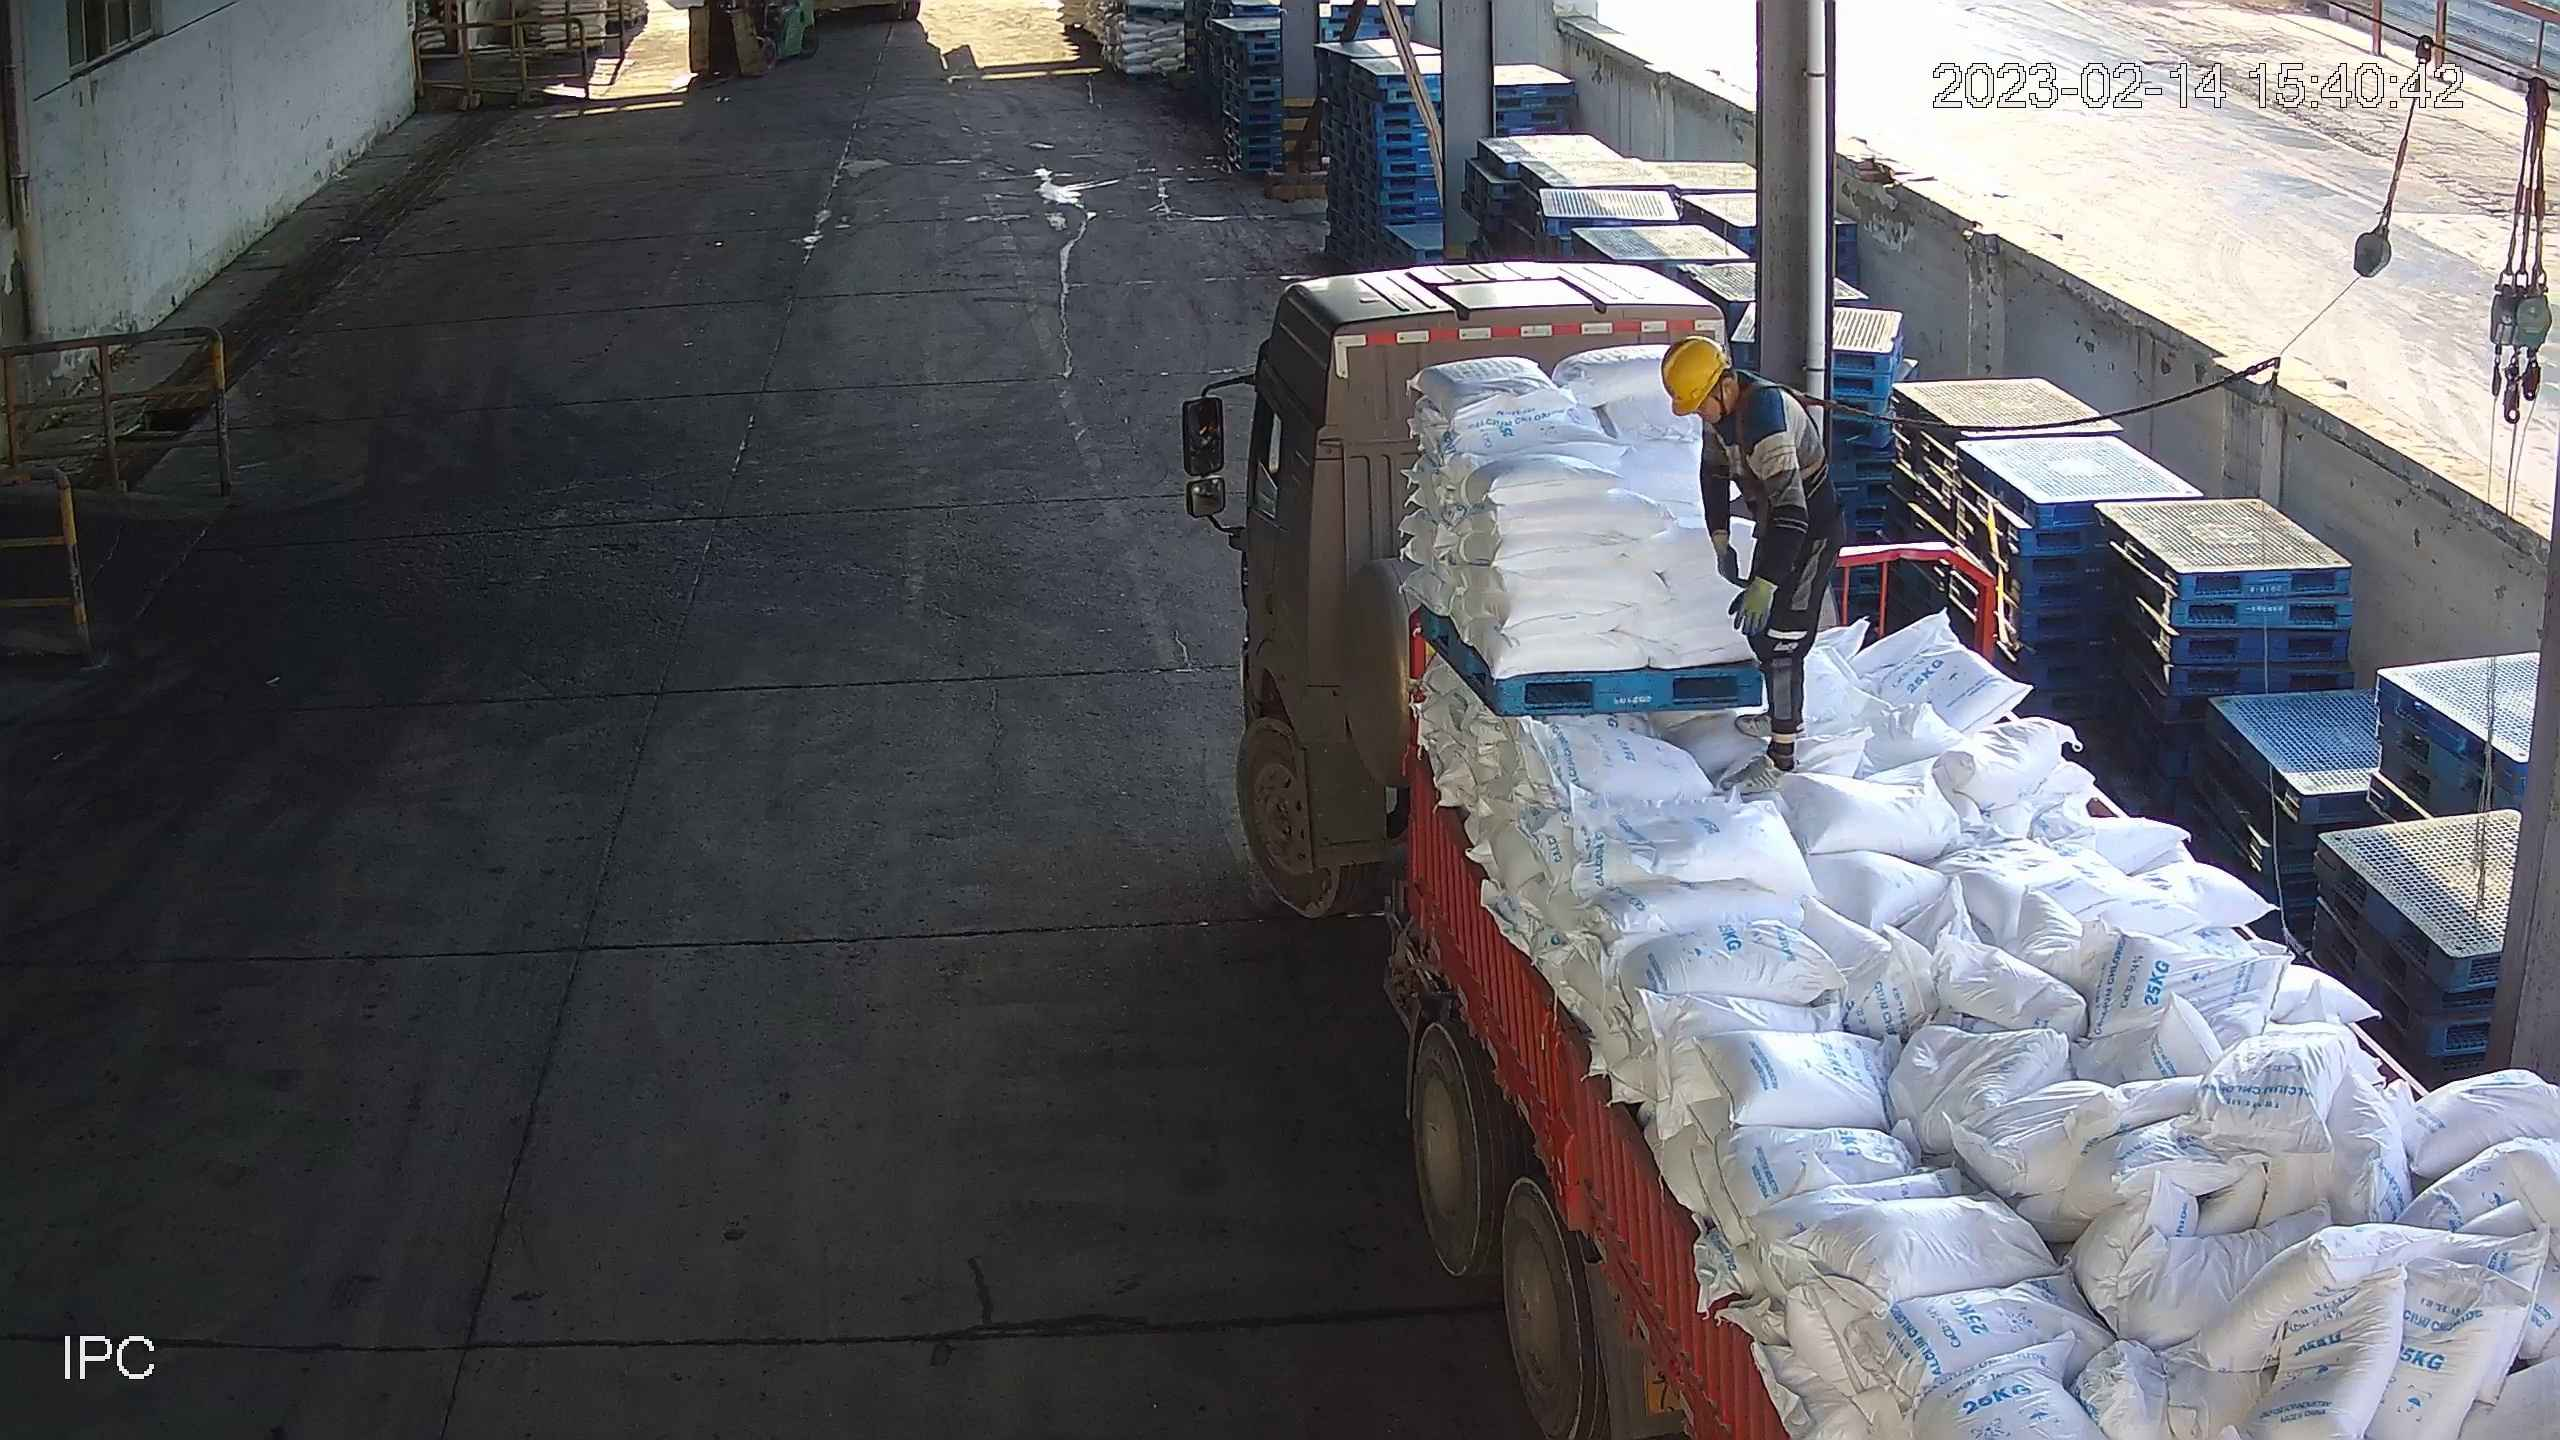belt: (1735, 383, 1843, 497)
head: (1667, 337, 1793, 448)
helmet: (1656, 337, 1728, 413)
people: (1658, 343, 1846, 790)
truck: (1174, 255, 2560, 1440)
